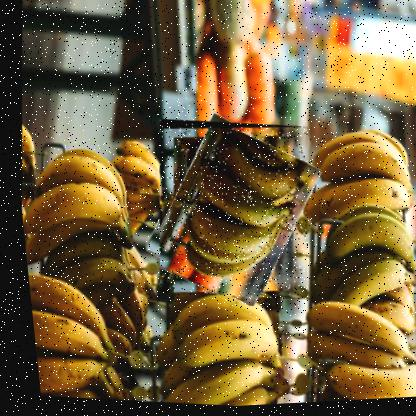banana: (136, 114, 317, 309)
